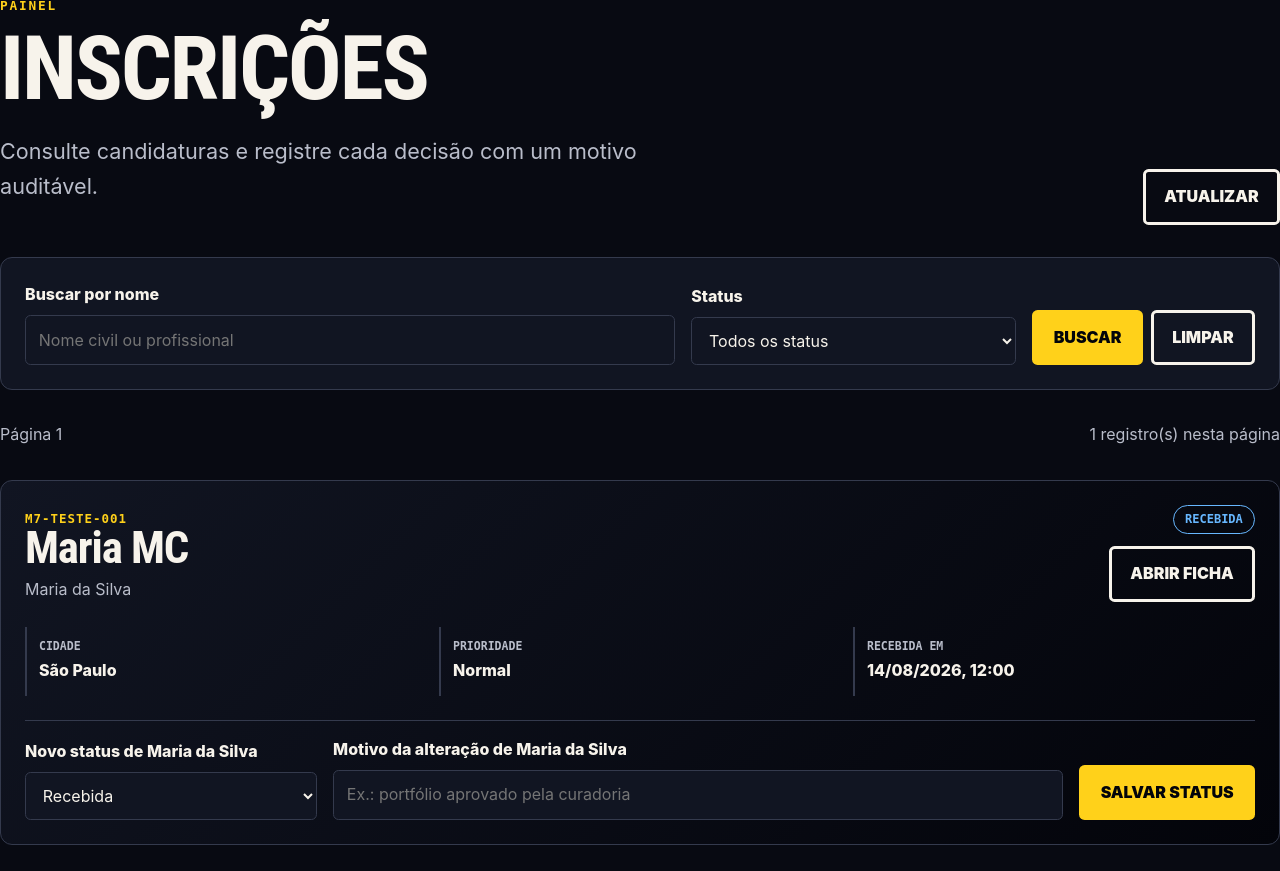
inscrições administrativas › altera o status com CSRF e motivo de auditoria
Check: the heading "Maria MC" is shown, box x1=25 y1=526 x2=188 y2=569
Check: the button "SALVAR STATUS" is enabled, box x1=1079 y1=764 x2=1255 y2=820
Select "Aprovada" in the dropdown labelled "Novo status de Maria da Silva". click: (171, 796)
box: x1=25 y1=772 x2=317 y2=820
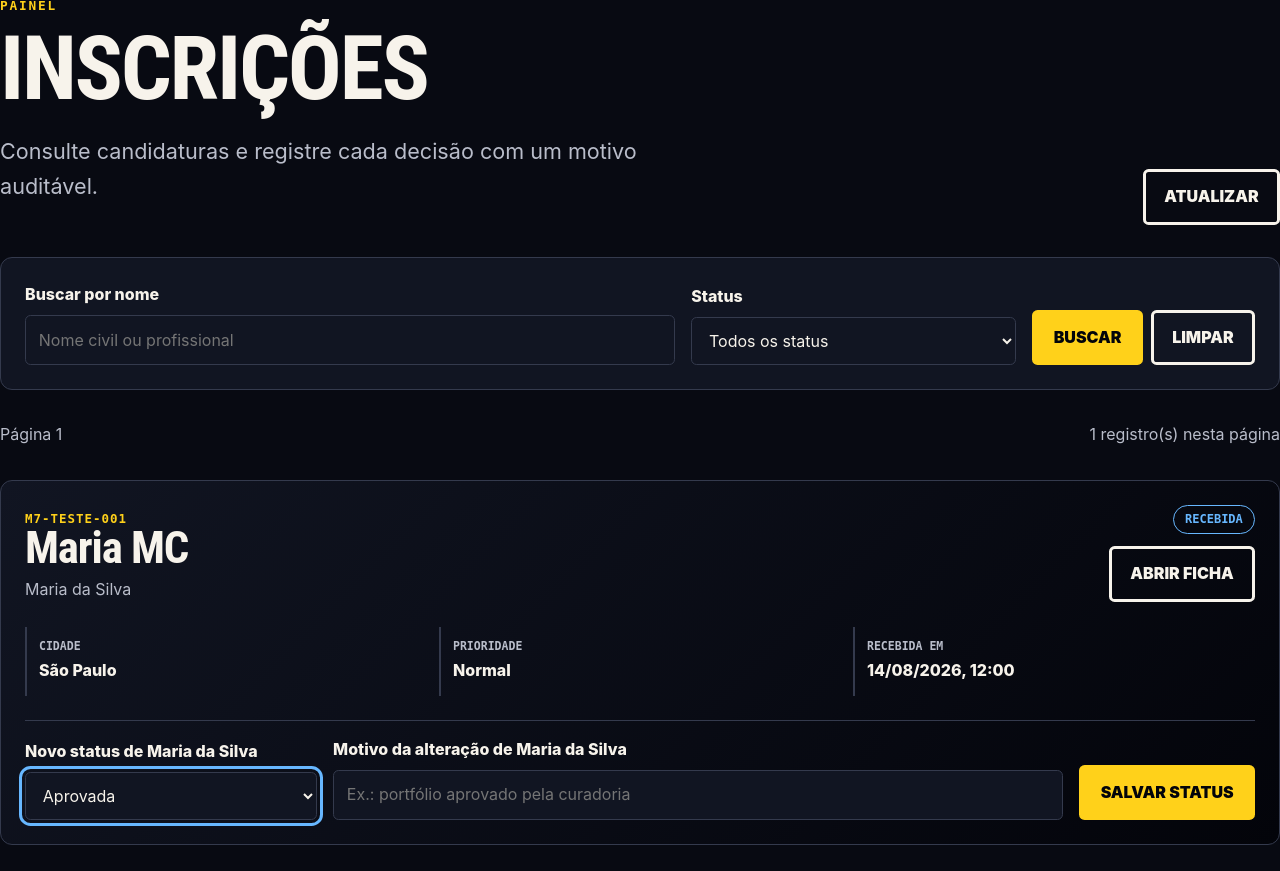
Type "Portfólio aprovado pela curadoria" into the field labelled "Motivo da alteração de Maria da Silva". click: (698, 795)
box: x1=333 y1=770 x2=1063 y2=820
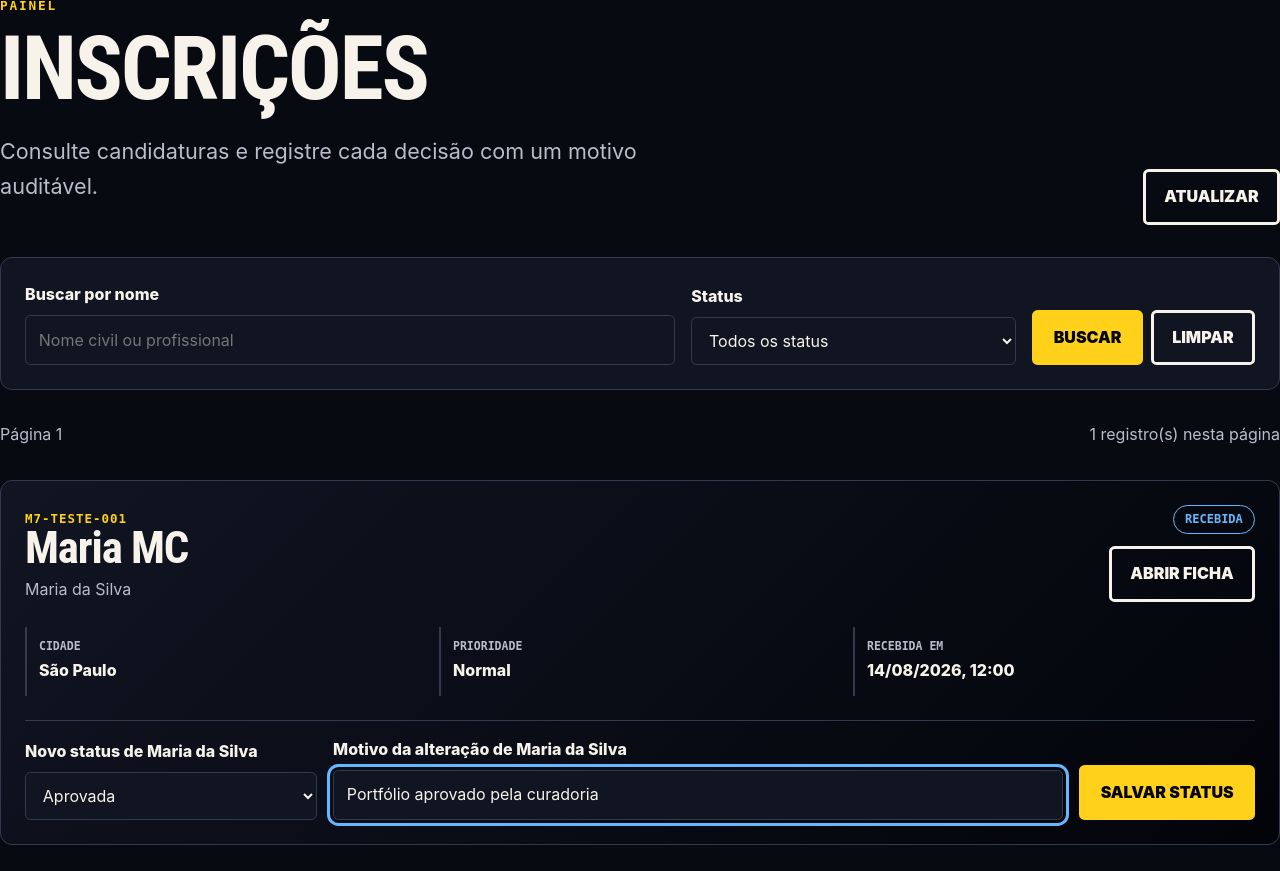
Click the button "SALVAR STATUS". click: (1167, 792)
box: x1=1079 y1=764 x2=1255 y2=820
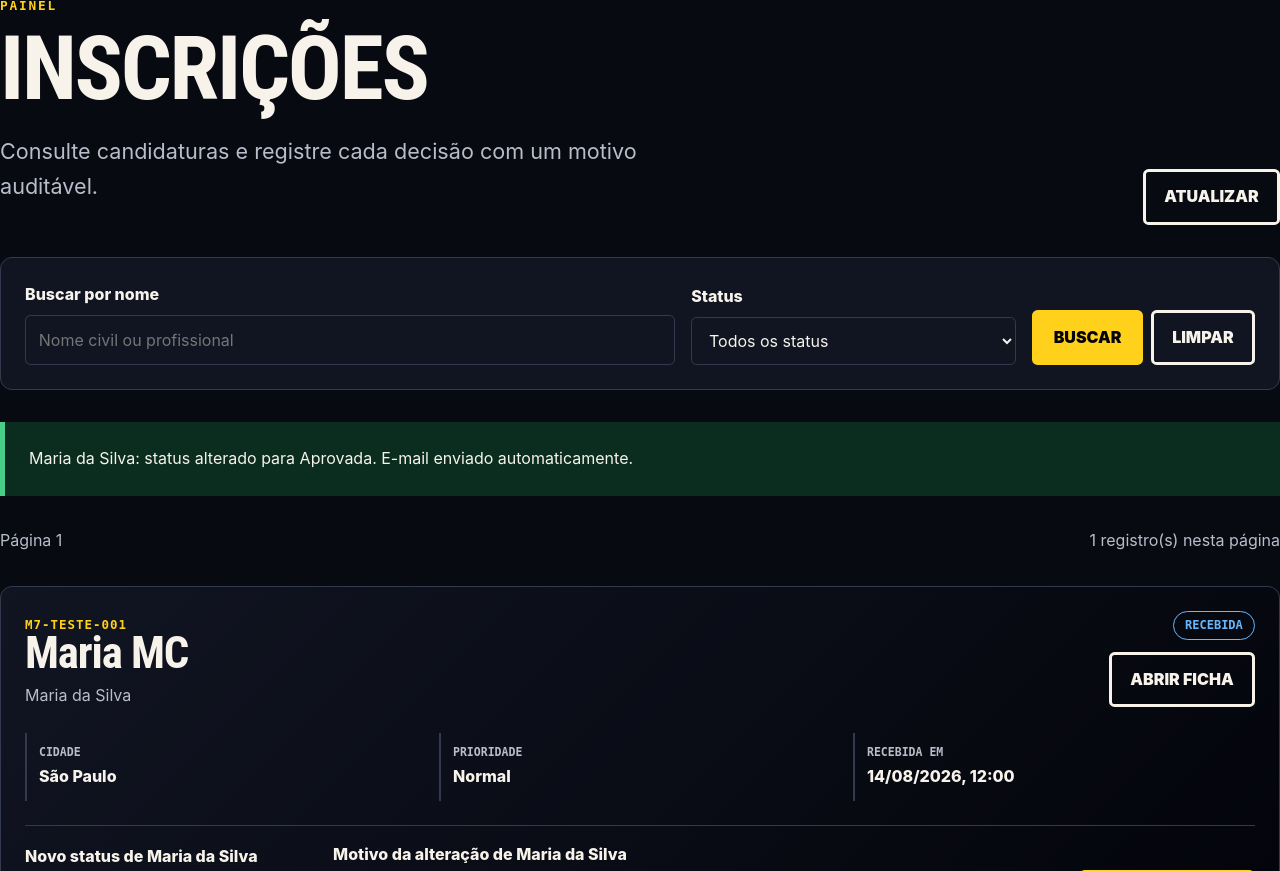
Check: the text "Maria da Silva: status alterado para Aprovada. E-mail enviado automaticamente." is shown, box x1=0 y1=422 x2=1279 y2=496
